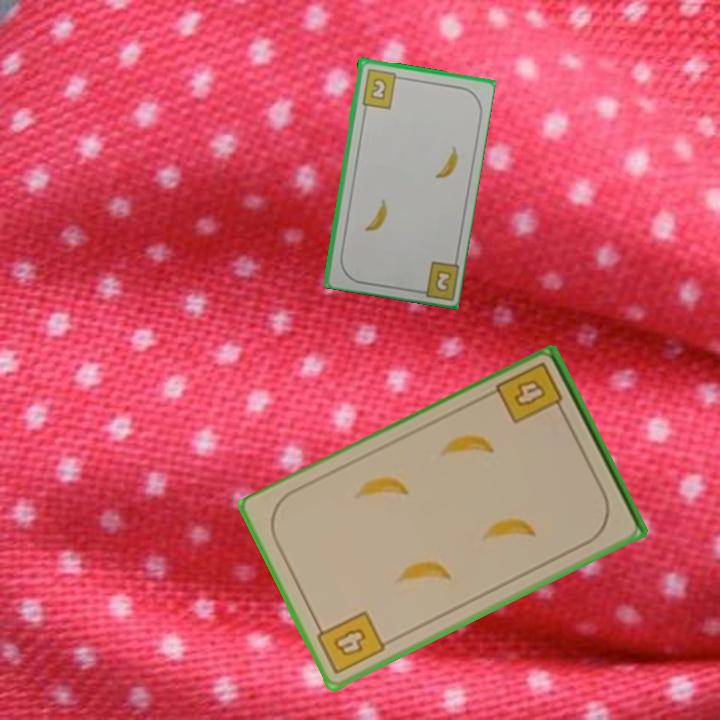2b: (358, 65, 405, 111), (431, 266, 454, 295)
4b: (311, 607, 388, 678), (493, 358, 569, 428)
